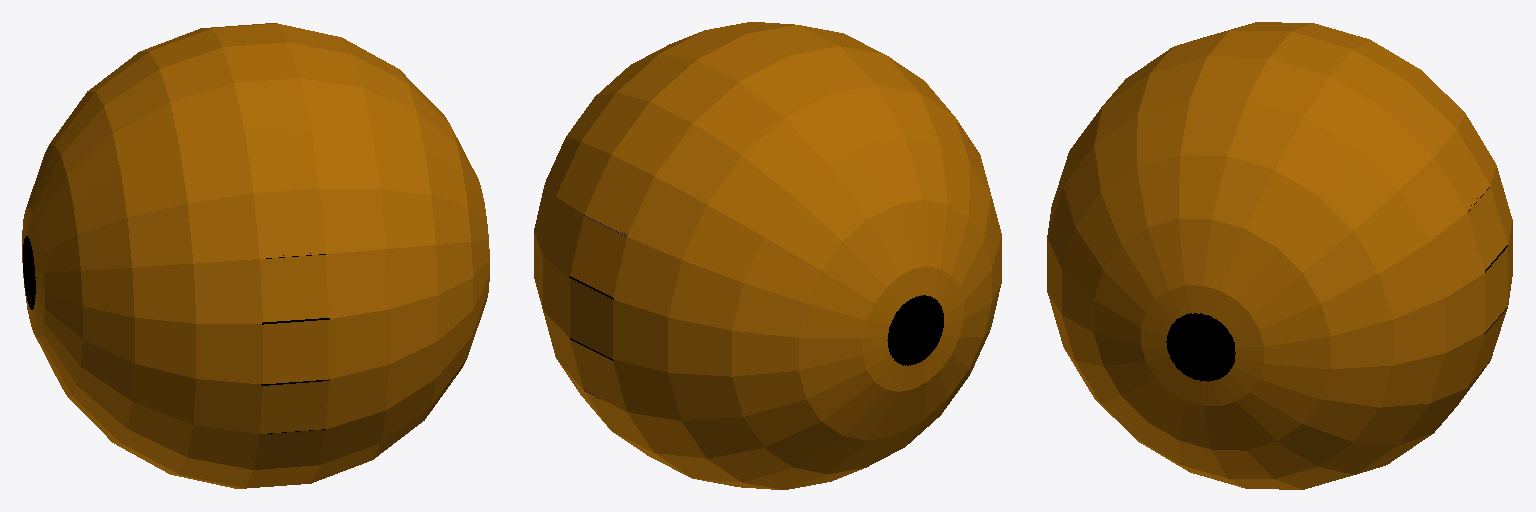
The picture shows the model from 3 angles: view 1: azimuth 30°, elevation 25°; view 2: azimuth 150°, elevation 25°; view 3: azimuth 270°, elevation 25°; orthographic projection.
Visible parts, largest first — view 1: treeSphere01; view 2: treeSphere01; view 3: treeSphere01.
Boxes of the visible parts, <box> form: treeSphere01: <box>22,23,489,488</box>; treeSphere01: <box>534,22,1001,489</box>; treeSphere01: <box>1047,22,1512,489</box>.
Bounding box in the file's own units: 10.22 × 10.14 × 10.12.
Materials: 1 (1 with a texture image).